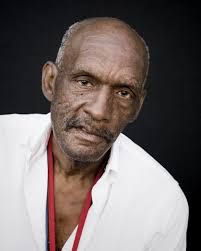no-mask: (36, 16, 155, 169)
